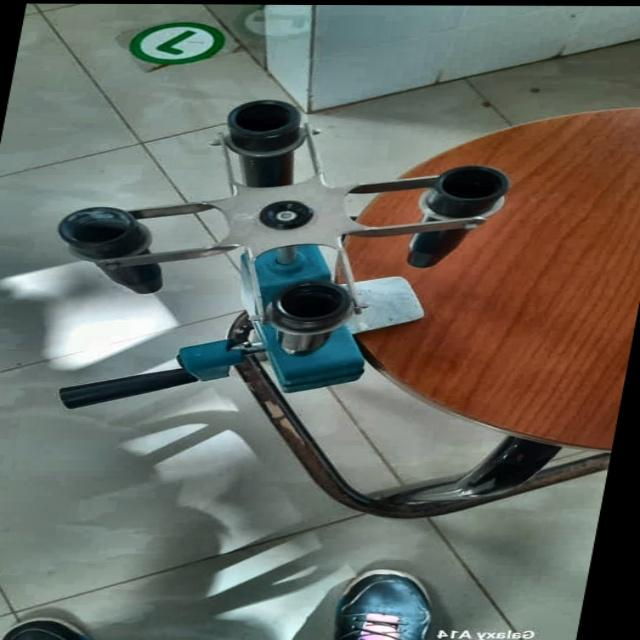Centrifuge: (0, 82, 527, 410)
